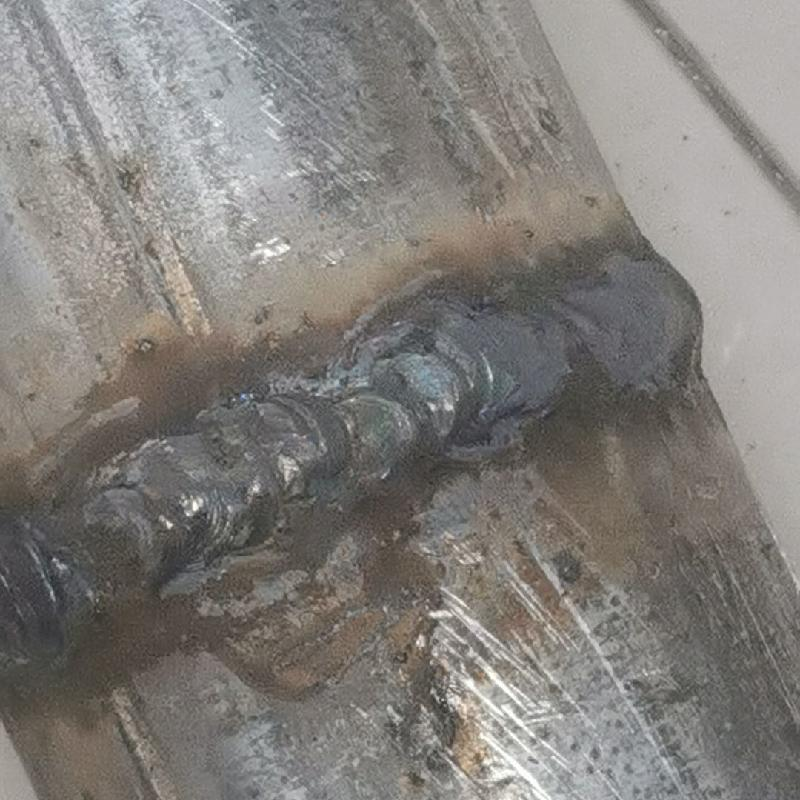good: (1, 221, 704, 649)
